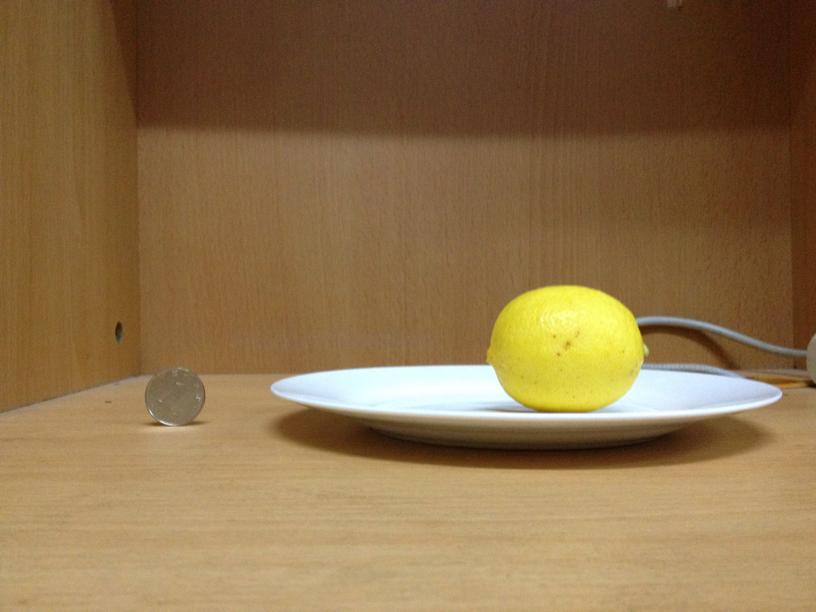coin: (142, 365, 207, 425)
lemon: (488, 285, 643, 411)
